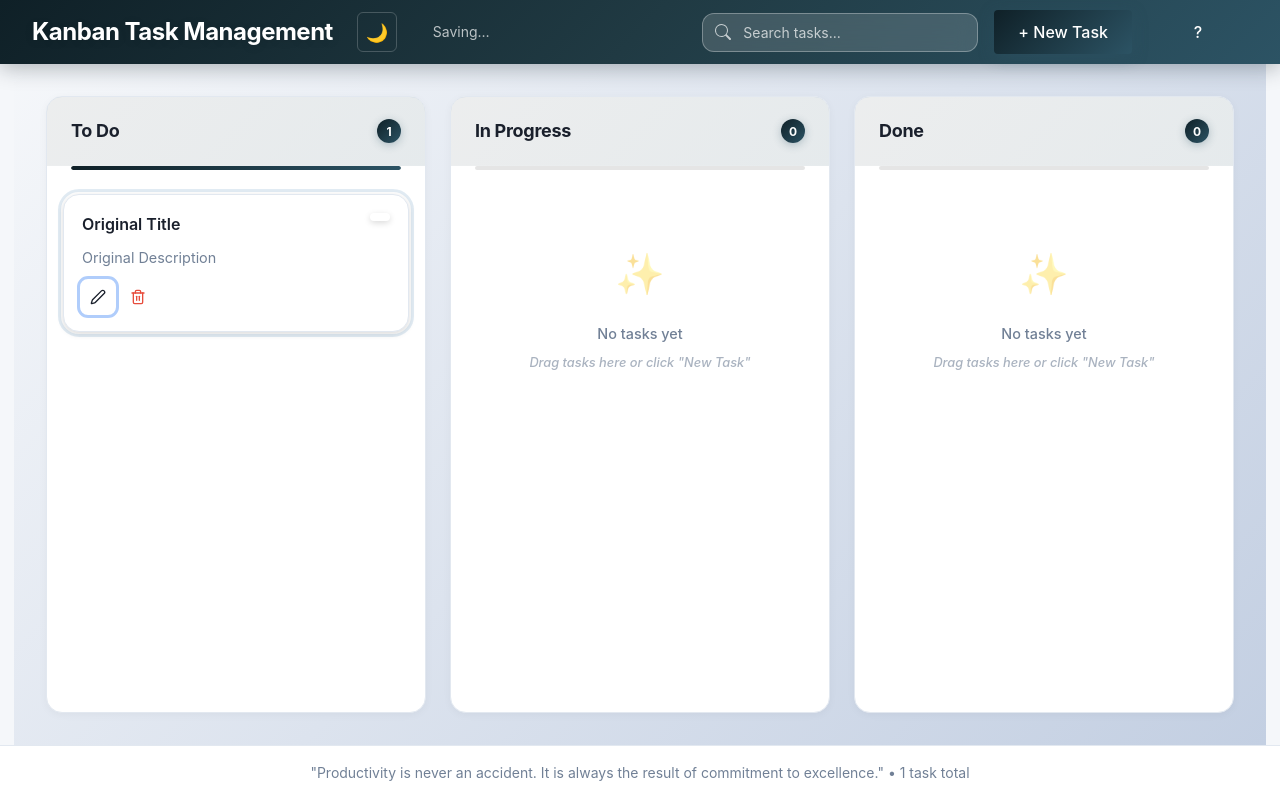
Accessibility Features › Keyboard Navigation (Requirement 10.4, 10.5) › should allow keyboard task editing
Press Enter
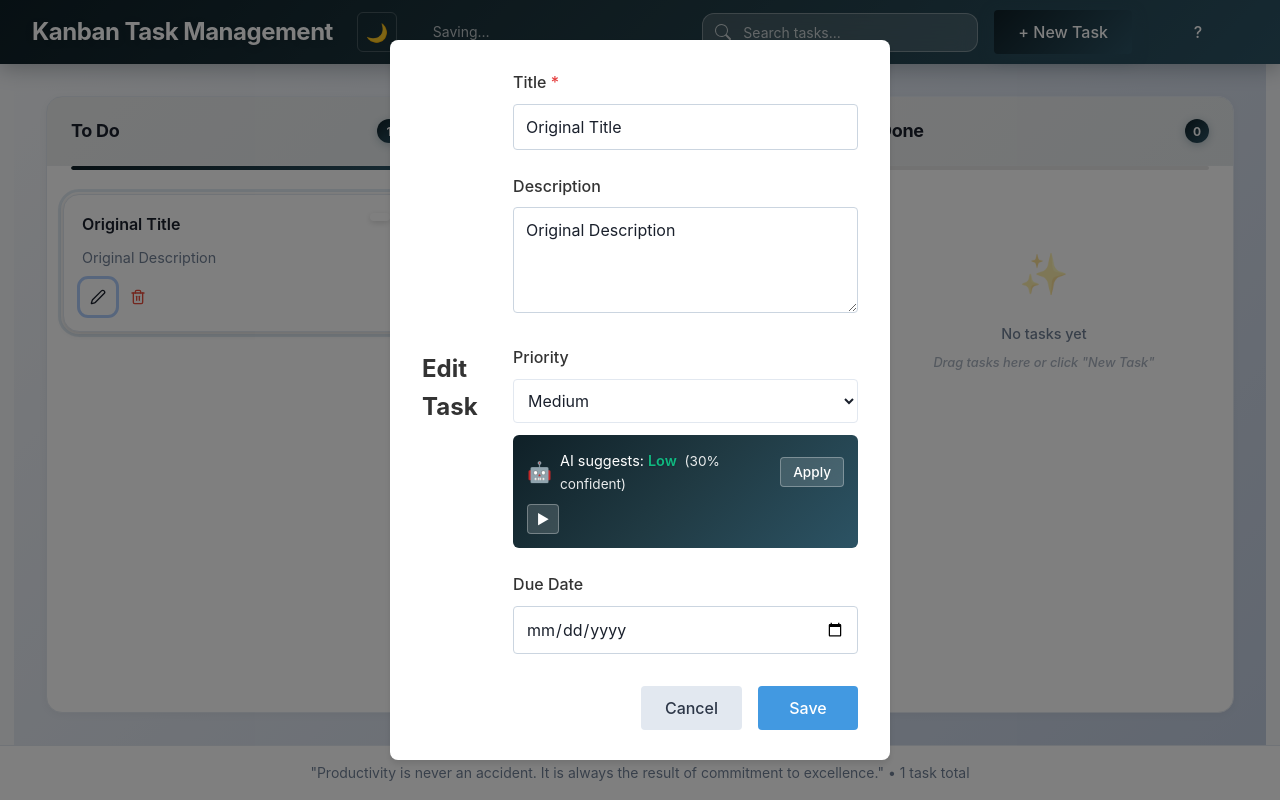
Result: the dialog is shown at [390, 40, 890, 760]
# Edit using keyboard - use more specific selector
Clear the field named "task title" at coordinates (686, 127), box [513, 104, 858, 150]
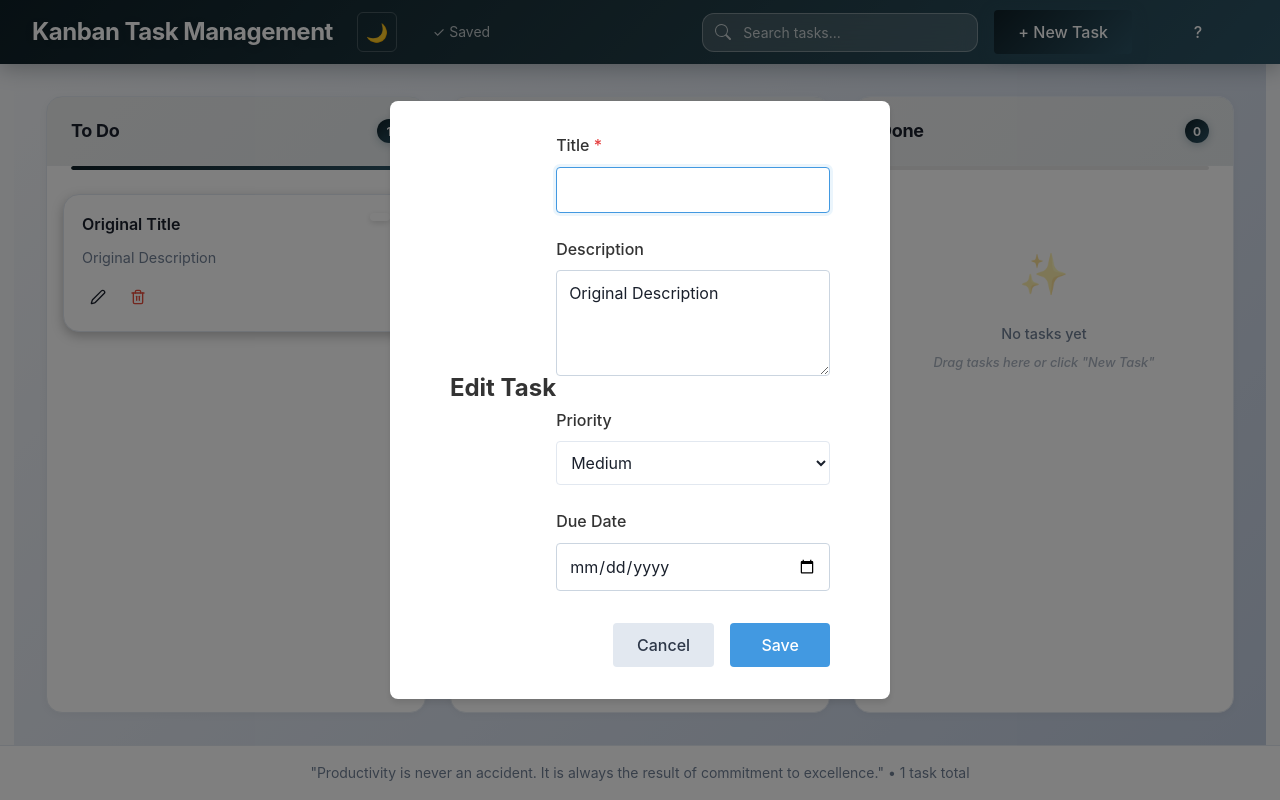
Type "Updated Title" into the field named "task title".
click(693, 190); type("Updated Title")  # box [556, 167, 830, 213]
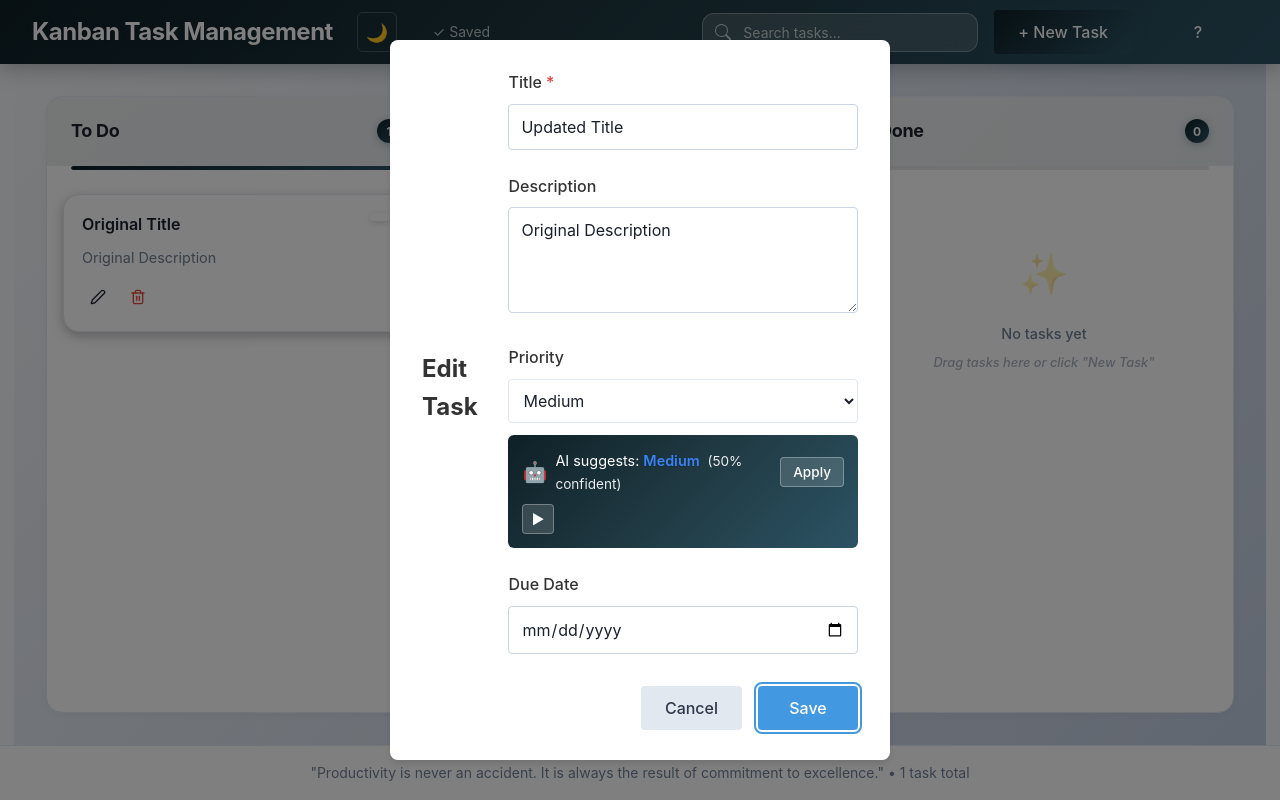
Press Enter
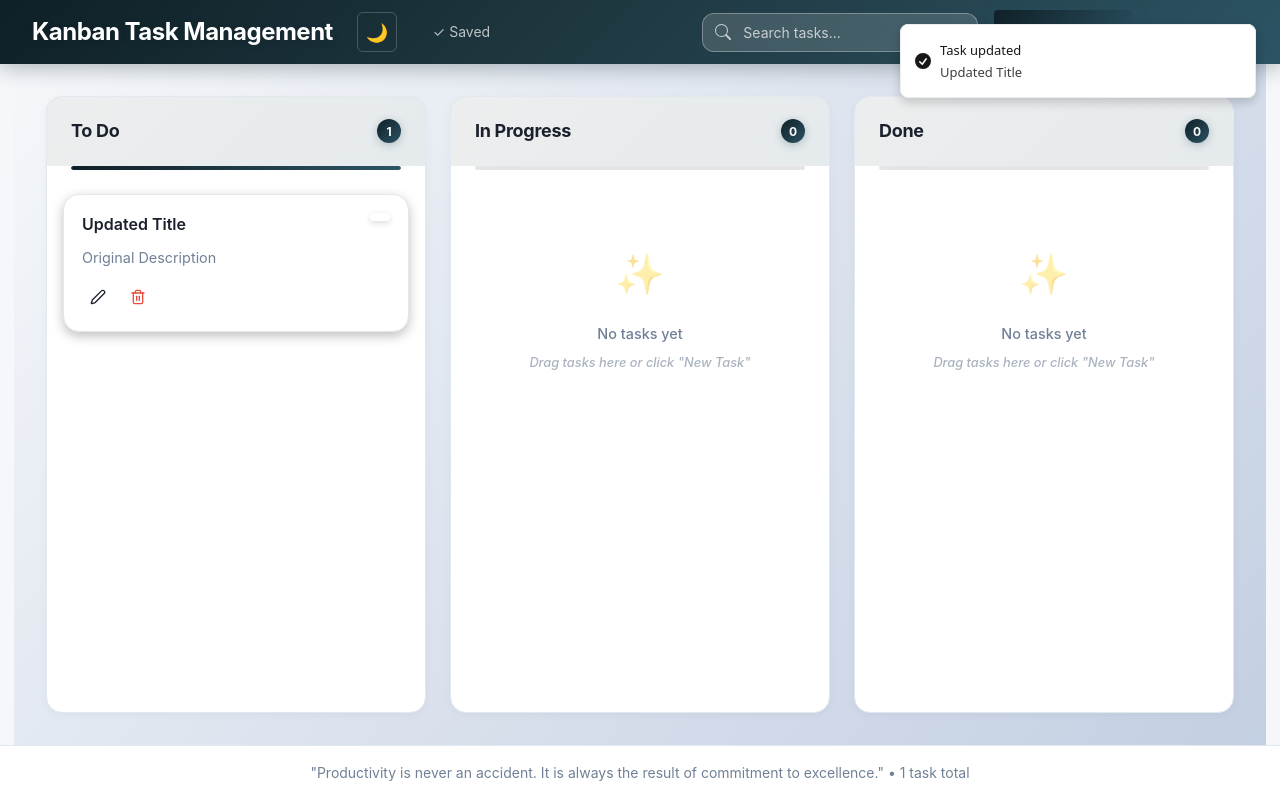
Result: the element showing "Updated Title Original Description" is shown at [63, 194, 409, 332]
Result: the button "Original Title" is gone
